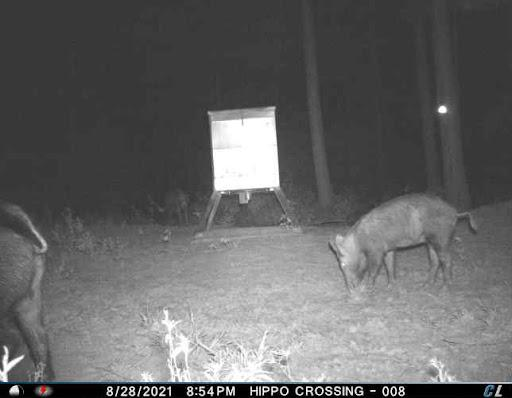Hog: (329, 186, 483, 296), (0, 193, 75, 378)
